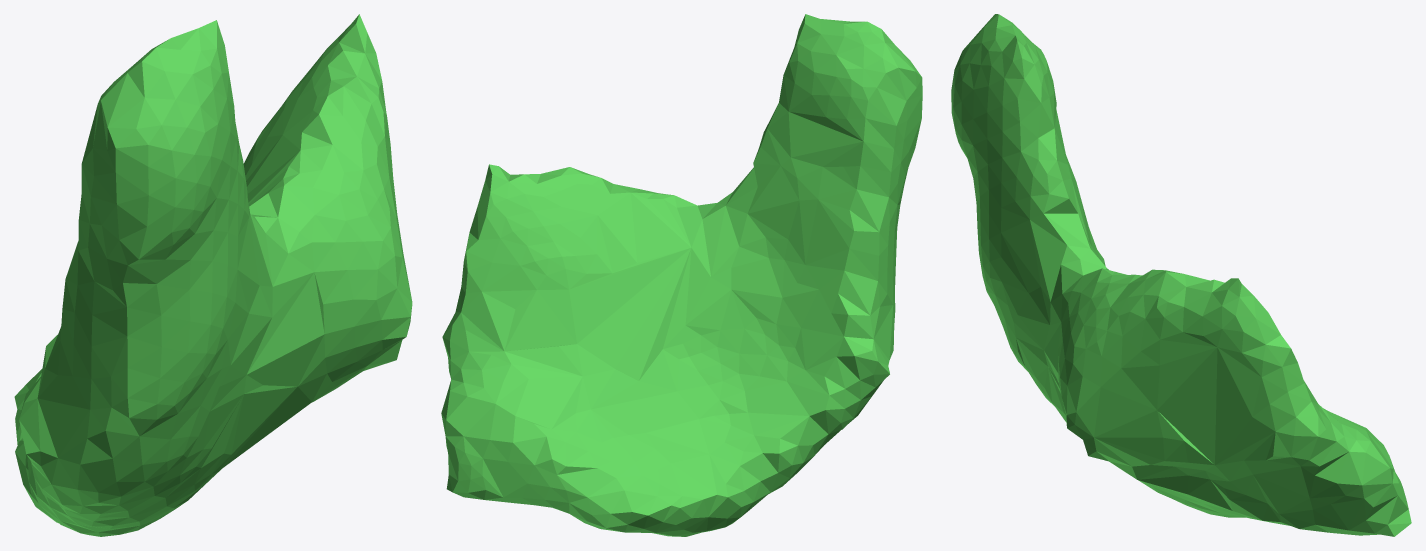
Rendered from Model_10220_LH__Substantia_nigra__compact_part_(SNC).obj.
3 renders of one model, left to right at view 1: azimuth 30°, elevation 25°; view 2: azimuth 150°, elevation 25°; view 3: azimuth 270°, elevation 25°, orthographic. The views are drawn at different scales.
Bounding box in the file's own units: 1.46 × 1.86 × 1.67.
